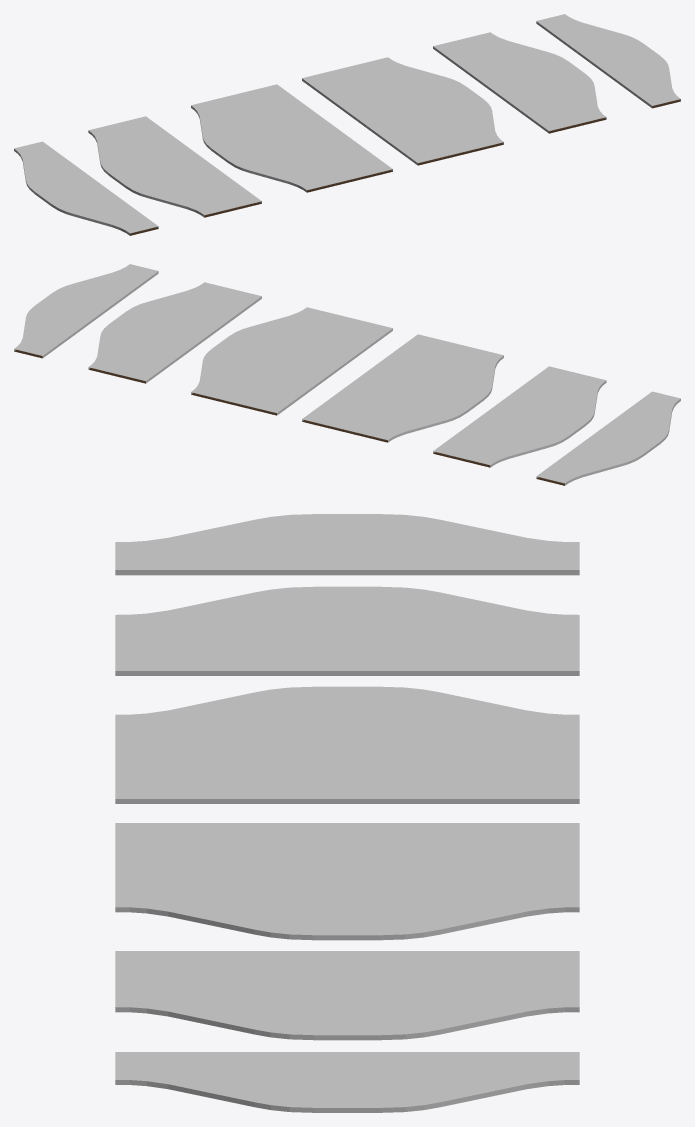
The model's file is mesh_taxi_tracks.FBX.
3 renders of one model, top to bottom at view 1: azimuth 30°, elevation 25°; view 2: azimuth 150°, elevation 25°; view 3: azimuth 270°, elevation 25°, orthographic. The views are drawn at different scales.
Parts seen in each view (by area): view 1: taxi 005, taxi 003, taxi 006, taxi 1, taxi 004, taxi 002; view 2: taxi 005, taxi 003, taxi 006, taxi 1, taxi 004, taxi 002; view 3: taxi 005, taxi 003, taxi 006, taxi 1, taxi 002, taxi 004.
Boxes of the visible parts, x1=… form: taxi 005: x1=302, y1=57, x2=503, y2=165; taxi 003: x1=191, y1=84, x2=392, y2=192; taxi 006: x1=433, y1=32, x2=606, y2=133; taxi 1: x1=88, y1=116, x2=261, y2=217; taxi 004: x1=536, y1=14, x2=680, y2=108; taxi 002: x1=14, y1=141, x2=158, y2=235; taxi 005: x1=191, y1=307, x2=392, y2=415; taxi 003: x1=302, y1=334, x2=503, y2=442; taxi 006: x1=88, y1=282, x2=261, y2=383; taxi 1: x1=433, y1=366, x2=606, y2=467; taxi 004: x1=14, y1=264, x2=158, y2=358; taxi 002: x1=536, y1=391, x2=680, y2=485; taxi 005: x1=115, y1=823, x2=579, y2=940; taxi 003: x1=115, y1=686, x2=579, y2=803; taxi 006: x1=115, y1=951, x2=579, y2=1040; taxi 1: x1=115, y1=586, x2=579, y2=675; taxi 002: x1=115, y1=514, x2=579, y2=575; taxi 004: x1=115, y1=1052, x2=579, y2=1112.
Bounding box in the file's own units: 84.74 × 0.3345 × 28.
